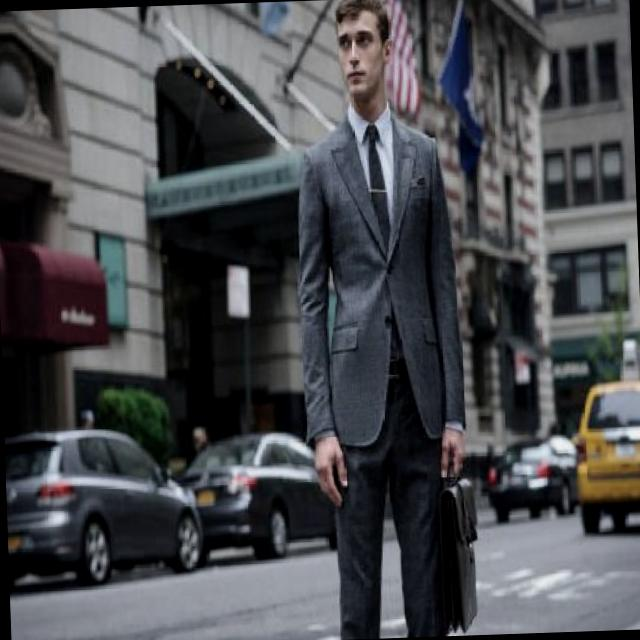Person: (257, 0, 505, 639)
